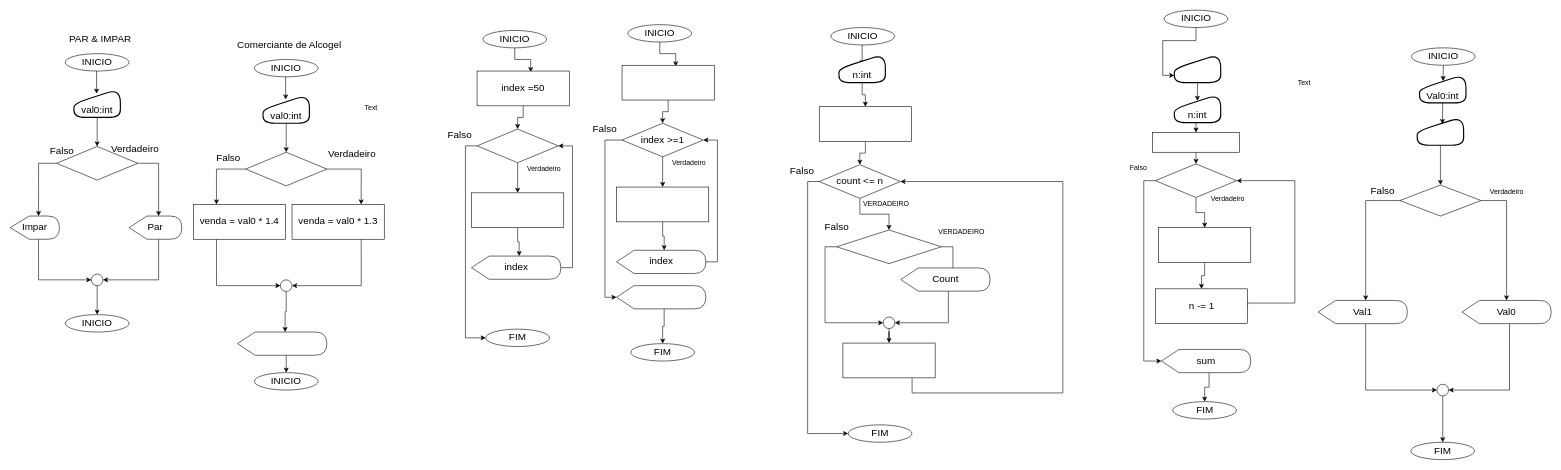
Some shapes in this 1561 by 470 pixel diagram are drawn without their labels. The shapes that lost their labels are listed below. From the top down, each one's box as (x1, y1, x2, y2) in pixels, then its label:
(621, 65, 714, 100): index =10
(1173, 53, 1221, 83): x:int
(819, 106, 911, 142): count =0
(1152, 132, 1239, 152): sum = 1
(1416, 115, 1464, 146): Val1:int
(56, 146, 138, 180): val0 % 2 == 0
(476, 128, 558, 163): index<100
(245, 152, 327, 186): val0 <20
(1155, 163, 1237, 197): n != 0
(471, 192, 564, 228): index += 1
(616, 186, 709, 222): index -= 1
(1399, 184, 1481, 216): Val0 > Val1
(836, 229, 941, 264): count % 2 == 0
(1158, 227, 1251, 262): sum *= x
(616, 285, 706, 309): "Fogo!"
(237, 331, 327, 355): venda
(842, 342, 935, 378): count+=1
